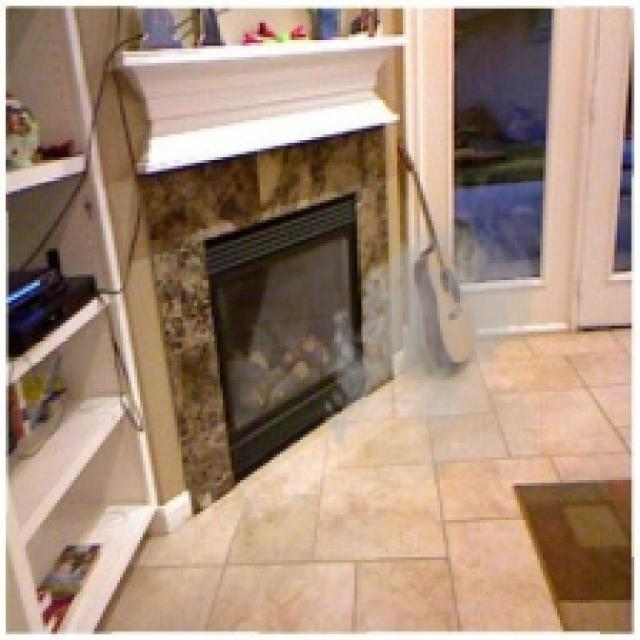Smoke: (317, 203, 543, 480)
